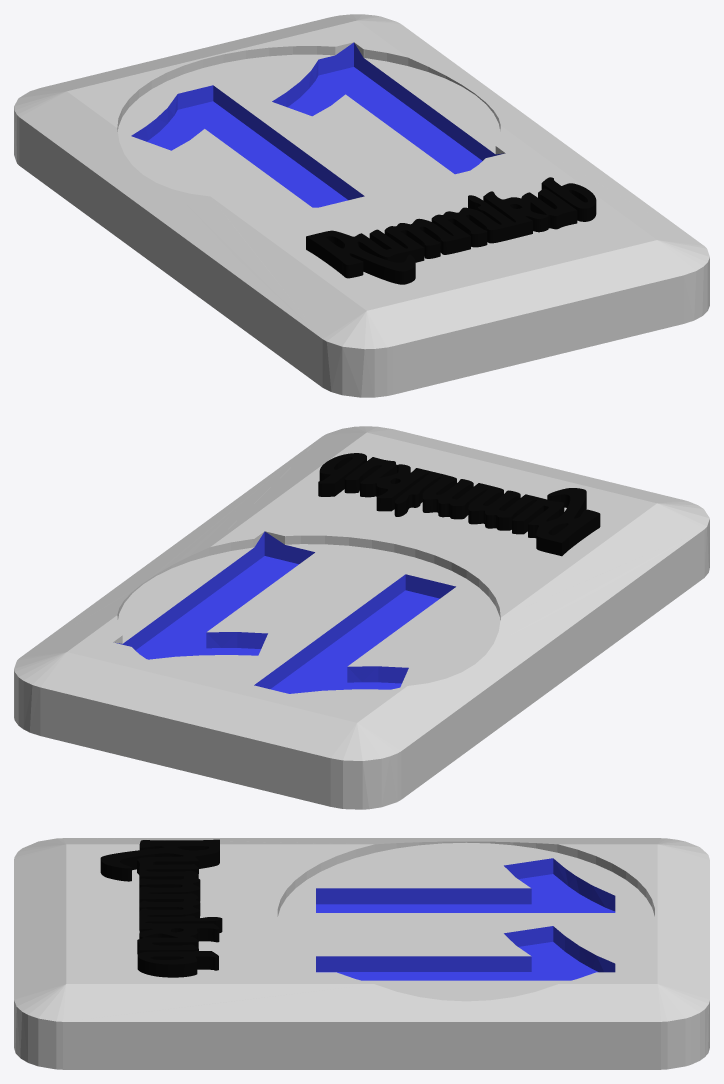
The picture shows the model from 3 angles, top to bottom: view 1: azimuth 30°, elevation 25°; view 2: azimuth 150°, elevation 25°; view 3: azimuth 270°, elevation 25°; orthographic projection.
Parts seen in each view (by area): view 1: Rummikub 11 Fixed, Rummikub 1 Fixed.001; view 2: Rummikub 11 Fixed, Rummikub 1 Fixed.001; view 3: Rummikub 11 Fixed, Rummikub 1 Fixed.001.
Part boxes in pixels (left/top/right/bottom): Rummikub 11 Fixed: left=14, top=14, right=709, bottom=397; Rummikub 1 Fixed.001: left=306, top=177, right=596, bottom=284; Rummikub 11 Fixed: left=14, top=426, right=709, bottom=809; Rummikub 1 Fixed.001: left=318, top=453, right=600, bottom=556; Rummikub 11 Fixed: left=14, top=838, right=709, bottom=1069; Rummikub 1 Fixed.001: left=100, top=839, right=222, bottom=977.
Size of the model in its own units: 2499 by 487 by 4000.
